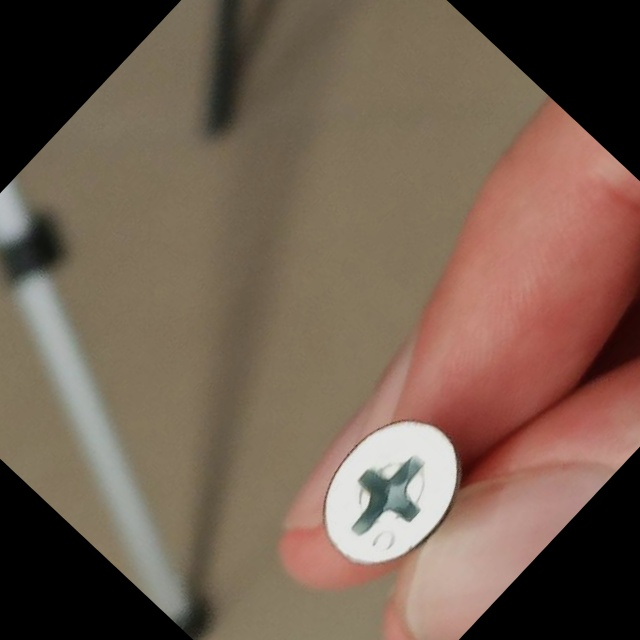phillips: (295, 394, 489, 590)
